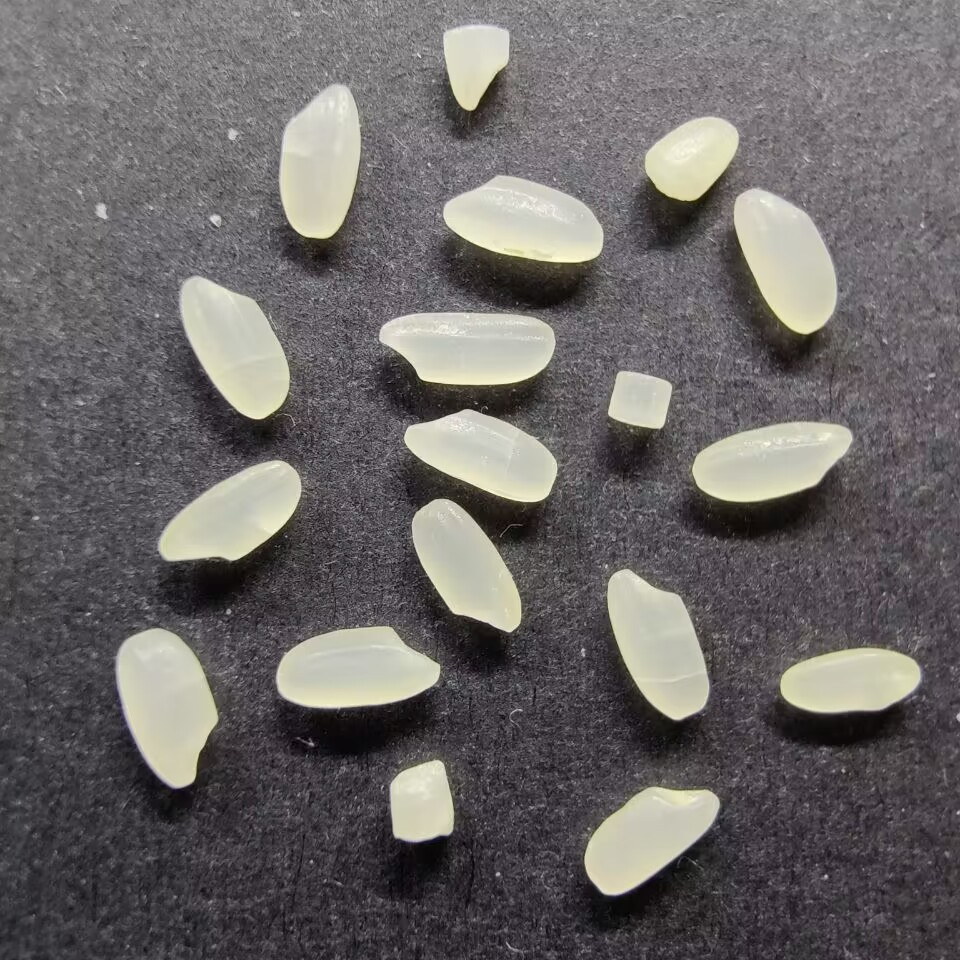broken: (642, 114, 739, 203), (440, 24, 512, 112), (387, 757, 456, 844), (605, 368, 676, 431)
rice: (114, 627, 221, 789), (177, 273, 291, 420), (605, 567, 711, 723), (731, 185, 838, 337), (581, 783, 722, 898), (411, 496, 525, 635), (156, 458, 302, 564), (402, 407, 559, 502), (440, 173, 605, 263), (273, 626, 442, 708), (692, 421, 856, 503), (277, 82, 361, 240), (378, 311, 556, 385), (777, 646, 923, 715)
